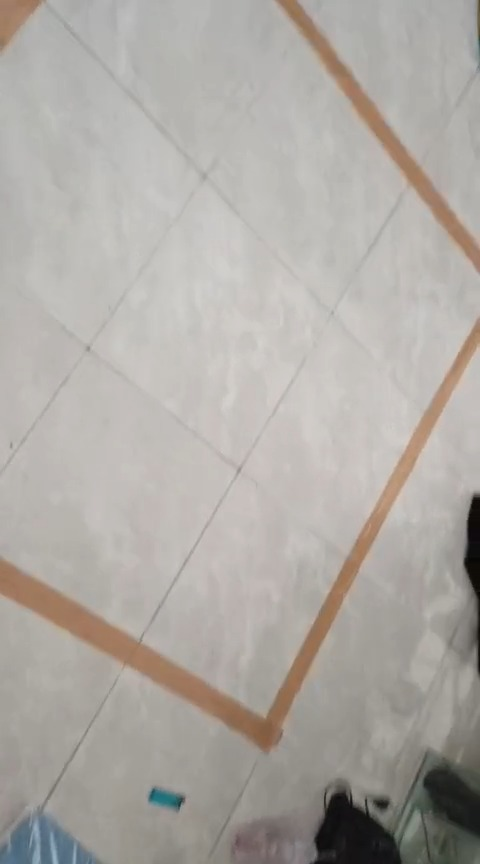floor marking: (1, 318, 479, 751), (275, 0, 479, 273), (0, 0, 45, 50)
